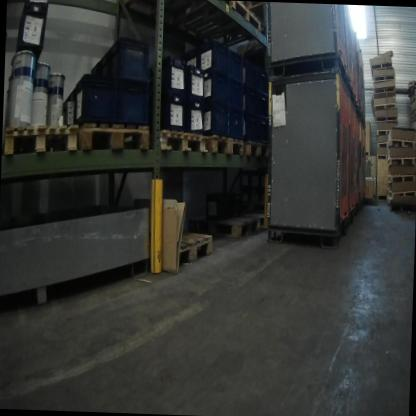pallet: (171, 0, 260, 60), (4, 117, 80, 165), (81, 118, 151, 159), (166, 226, 217, 282), (205, 205, 261, 241), (156, 128, 208, 157), (205, 134, 246, 160), (241, 3, 270, 21), (243, 144, 270, 161), (386, 136, 414, 152), (387, 172, 415, 185), (386, 190, 416, 202), (386, 155, 415, 167), (255, 208, 270, 227), (372, 85, 396, 96), (371, 60, 392, 72), (375, 115, 398, 125), (372, 74, 396, 82), (373, 103, 397, 111), (407, 94, 416, 109), (375, 151, 387, 161), (377, 130, 391, 138), (409, 79, 416, 91), (377, 140, 388, 147), (411, 105, 416, 116), (413, 124, 416, 135), (415, 143, 416, 153)
small_load_carrier: (89, 34, 152, 83), (12, 0, 55, 63), (78, 69, 120, 129), (115, 79, 149, 127), (157, 88, 188, 137), (153, 52, 190, 92), (198, 70, 228, 104), (197, 46, 229, 77), (202, 104, 230, 138), (241, 55, 261, 97), (186, 65, 208, 101), (62, 82, 77, 133), (227, 42, 246, 81), (257, 67, 275, 108), (187, 100, 207, 133), (228, 78, 247, 112), (226, 106, 246, 138), (243, 111, 260, 143), (182, 53, 201, 79), (259, 116, 271, 142)
